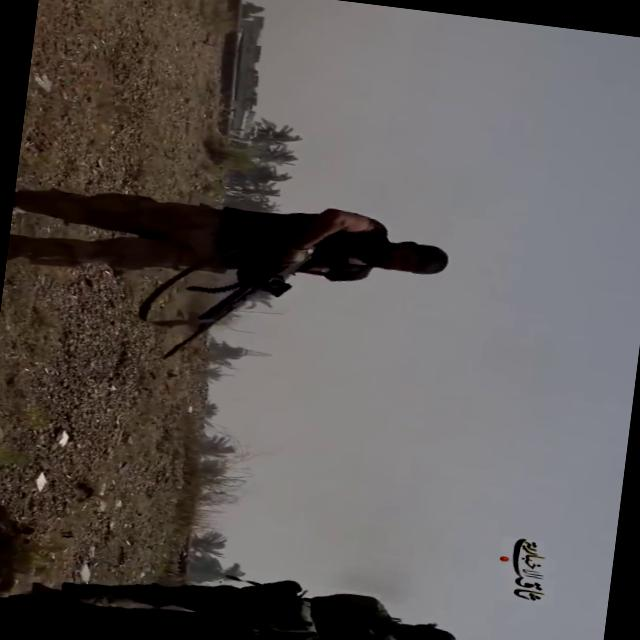long weapon: (136, 218, 327, 388)
